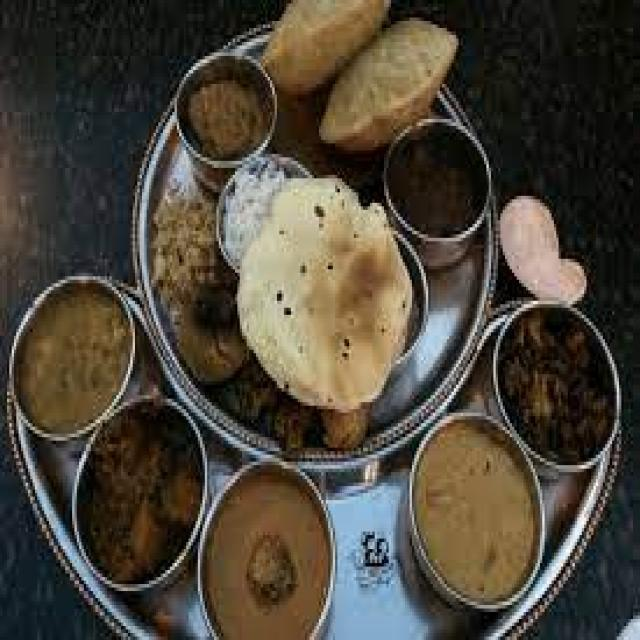dal: (196, 457, 337, 633), (11, 279, 141, 440)
raita: (215, 158, 283, 266)
rice: (142, 177, 235, 338)
roti: (227, 175, 420, 407)
sweet: (491, 176, 591, 324), (173, 52, 278, 168)
